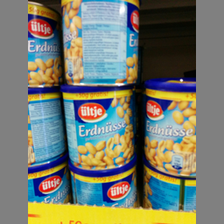nuts: (60, 1, 140, 86), (60, 84, 137, 172), (144, 77, 196, 178), (28, 85, 66, 169), (28, 1, 62, 88)
